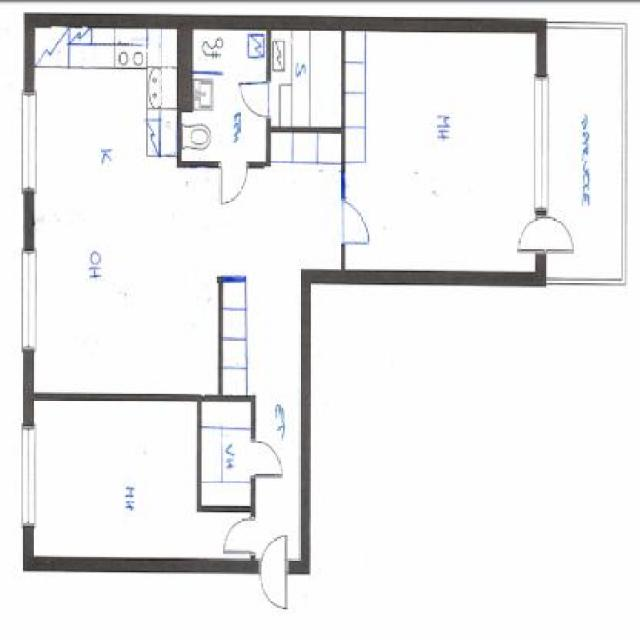door: (258, 536, 291, 616), (518, 217, 574, 258), (215, 162, 254, 206), (340, 200, 374, 248), (252, 442, 285, 486), (237, 80, 272, 118), (222, 517, 256, 554)
window: (534, 74, 548, 212), (22, 91, 36, 192), (22, 249, 36, 349), (22, 428, 36, 523)
zone: (36, 28, 342, 555), (346, 31, 537, 274), (34, 398, 254, 560), (546, 25, 620, 278), (180, 26, 265, 163), (269, 28, 342, 128), (200, 398, 252, 504)
